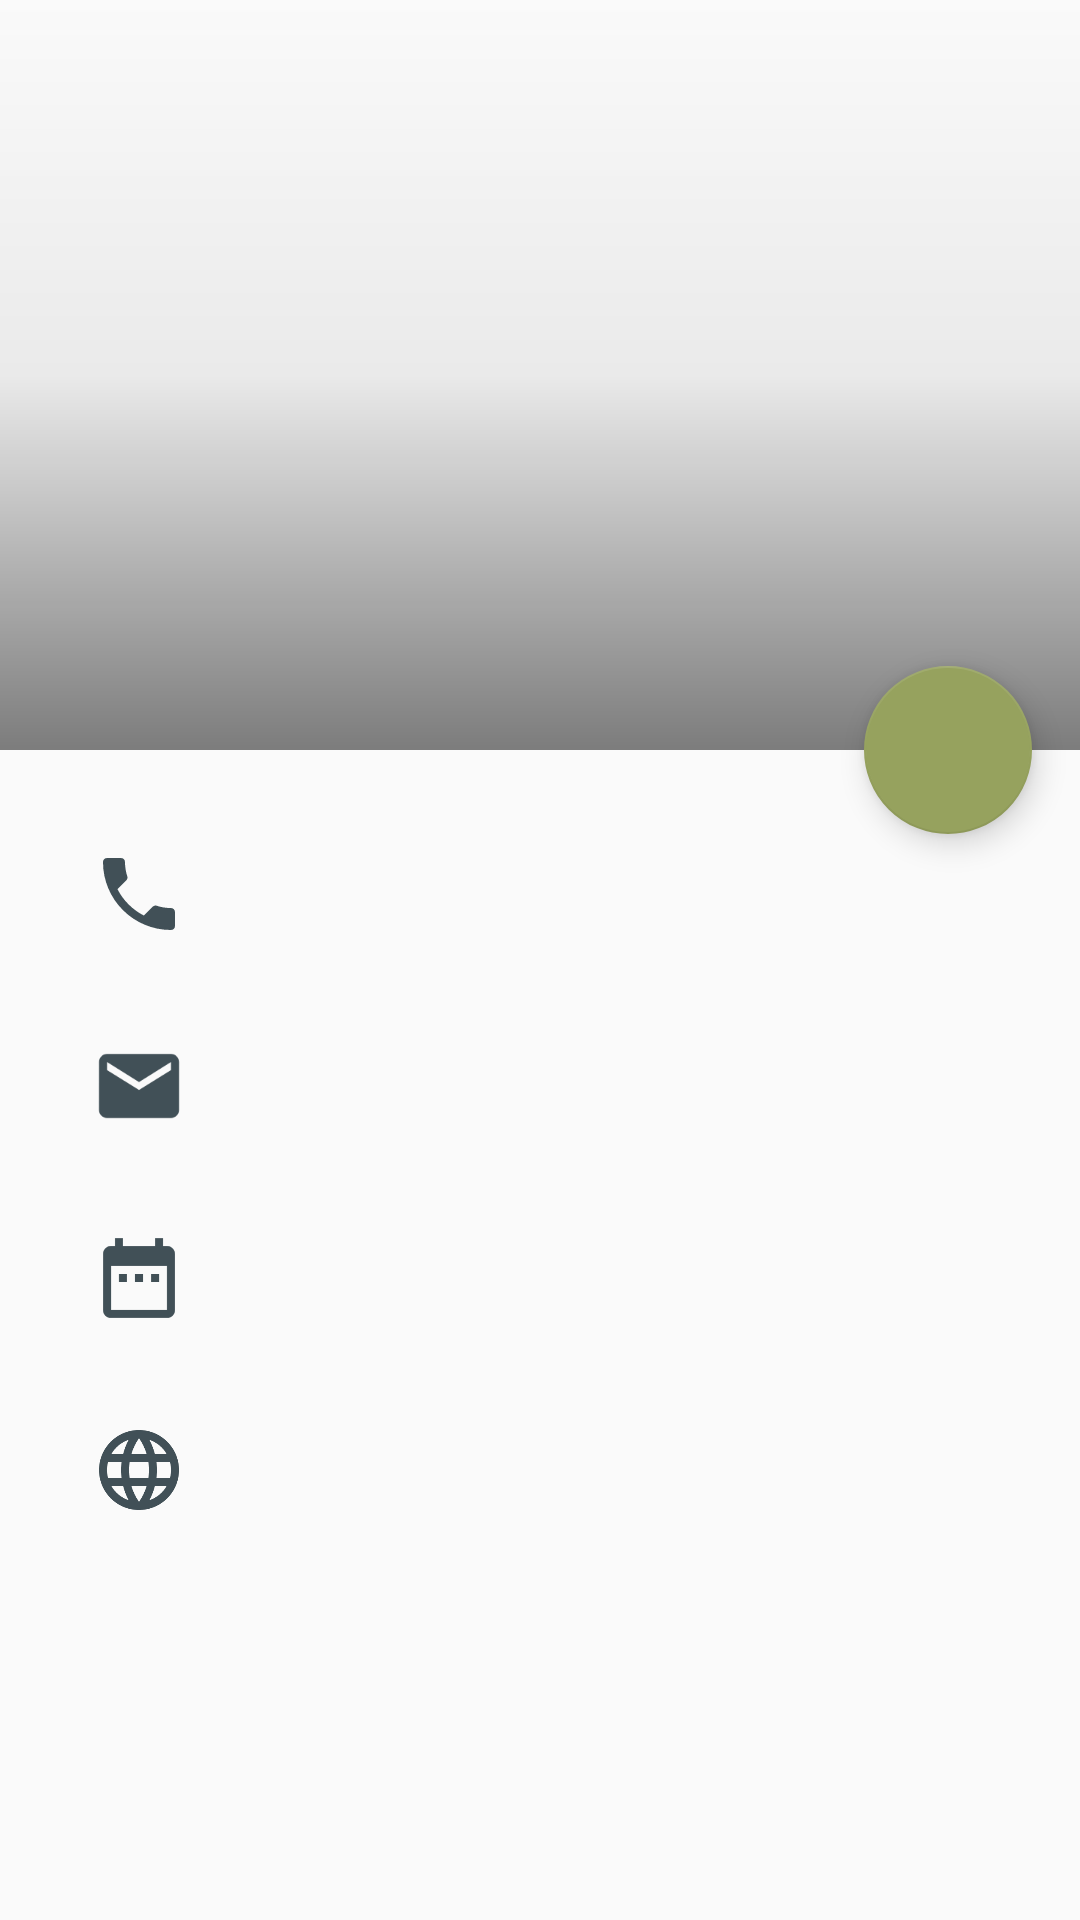

Named icons in this screenshot (1080 x 1920) and their bounding boxes, (left=x1, top=y1, right=x2, bottom=y2):
call: (left=103, top=858, right=175, bottom=930)
date range: (left=103, top=1238, right=175, bottom=1318)
email: (left=98, top=1054, right=180, bottom=1119)
language: (left=99, top=1430, right=179, bottom=1510)
